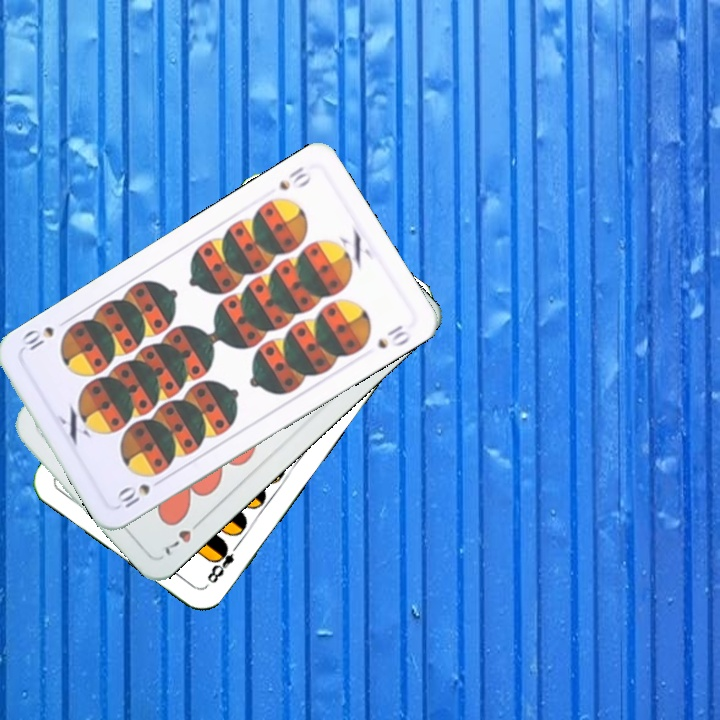E8: (203, 538, 243, 586)
H7: (158, 514, 206, 559)
S10: (113, 479, 153, 511), (274, 162, 315, 193)
